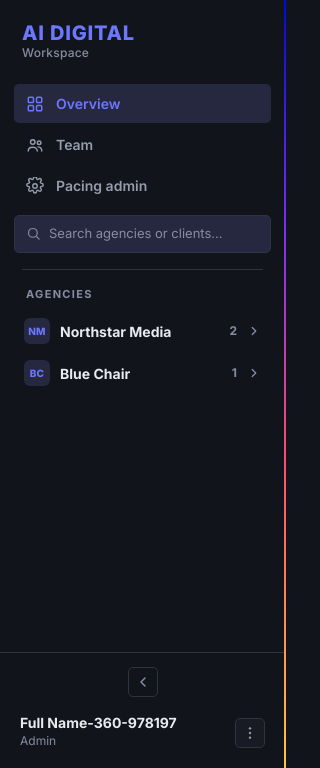
Scenario: Sidebar › search › should restore the normal paginated list when the search is cleared
Check: the text "Northstar Media" is shown, box [60,322,171,340]
Type "north" into the search field labelled "Search agencies or clients".
click(154, 234); type("north")  # box [49,224,259,244]
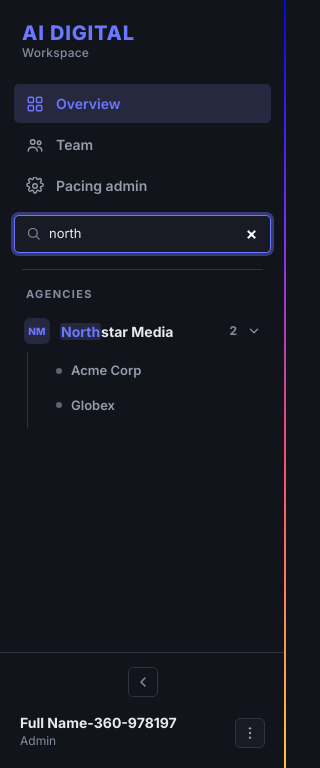
Check: the link "Blue Chair" is gone
Clear the search field named "Search agencies or clients" at x=154, y=234, box [49,224,259,244]
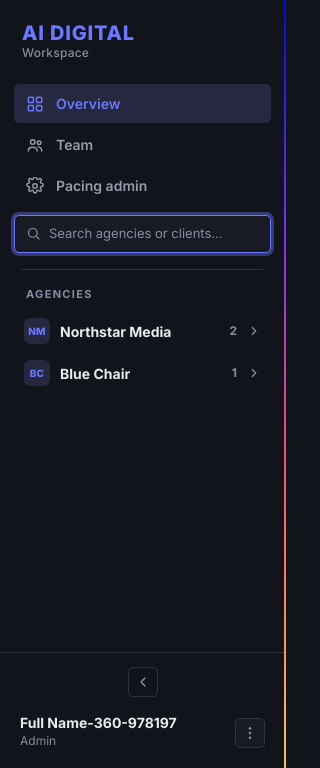
Check: the text "Northstar Media" is shown, box [60,322,171,340]
Check: the text "Blue Chair" is shown, box [60,364,130,382]
